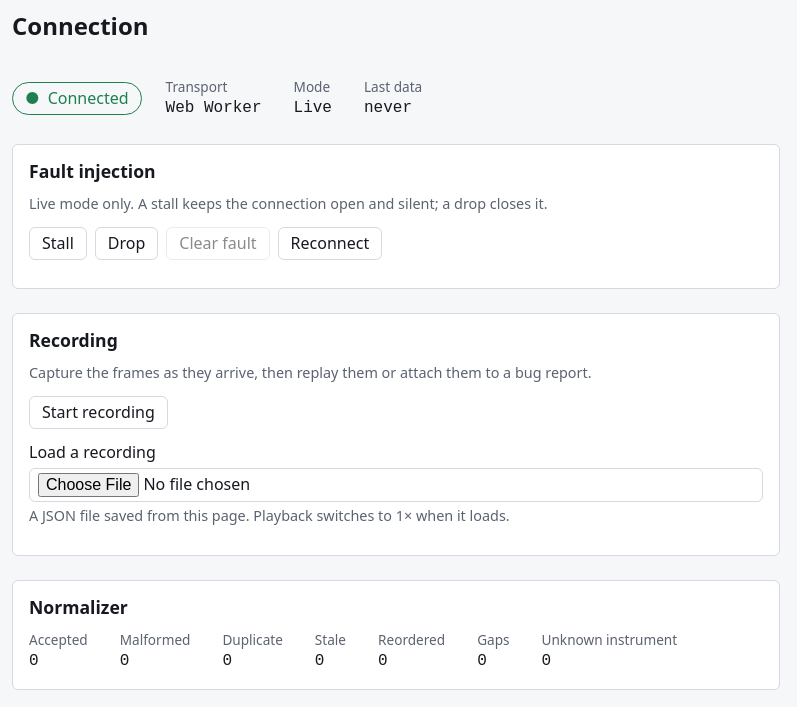
ConnectionView › toggles recording
Click the button "Start recording".
click(98, 412)  # box [29, 396, 168, 429]
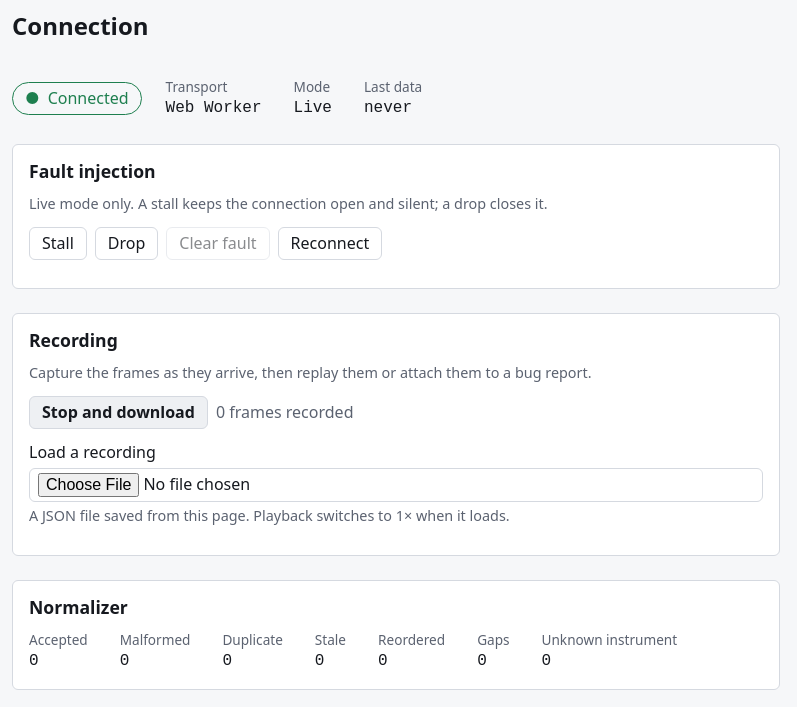
Now the button "Stop and download" is shown, box [29, 396, 208, 429]
